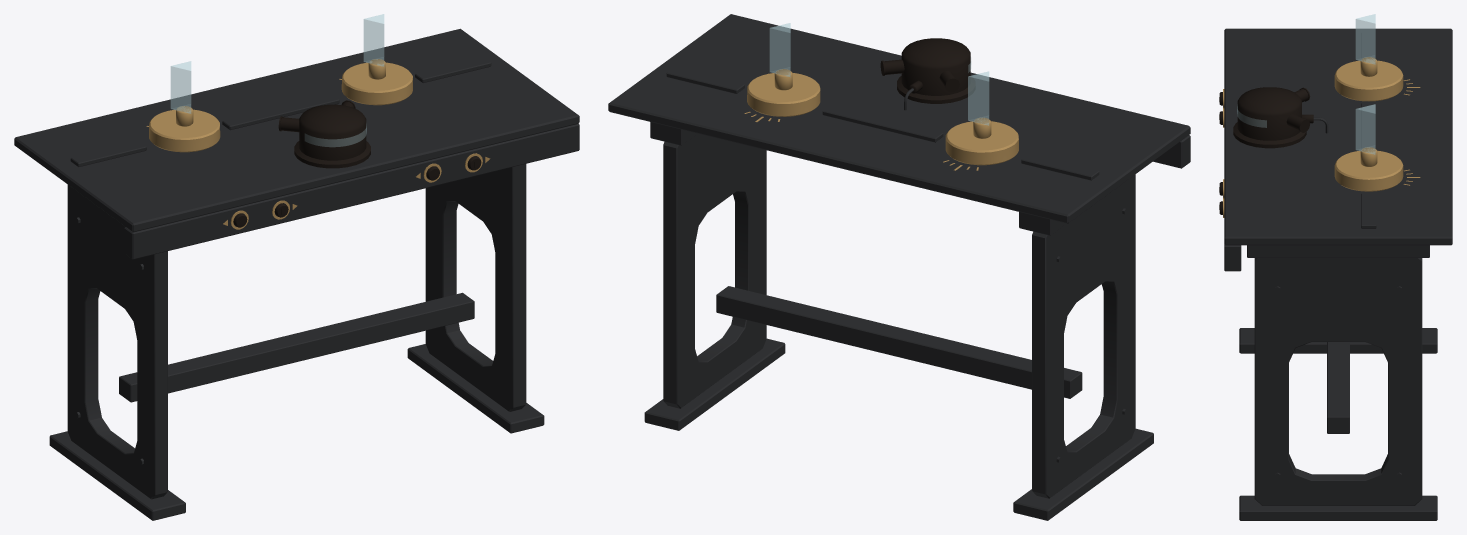
The model's file is prism_bench.glb.
3 renders of one model, left to right at view 1: azimuth 30°, elevation 25°; view 2: azimuth 150°, elevation 25°; view 3: azimuth 270°, elevation 25°, orthographic. The views are drawn at different scales.
Visible parts, largest first — view 1: prism_bench, IA_prism_p, IA_prism_q; view 2: prism_bench, IA_prism_p, IA_prism_q; view 3: prism_bench, IA_prism_p, IA_prism_q.
Boxes of the visible parts, box(x1,y1,x2,y2) form: prism_bench: box(14, 28, 579, 520); IA_prism_p: box(149, 61, 220, 152); IA_prism_q: box(341, 14, 412, 105); prism_bench: box(608, 14, 1190, 520); IA_prism_p: box(945, 71, 1018, 165); IA_prism_q: box(747, 23, 820, 116); prism_bench: box(1223, 28, 1452, 520); IA_prism_p: box(1334, 14, 1403, 101); IA_prism_q: box(1334, 104, 1403, 191).
Size of the model in its own units: 1.3 by 1.06 by 0.6132.
